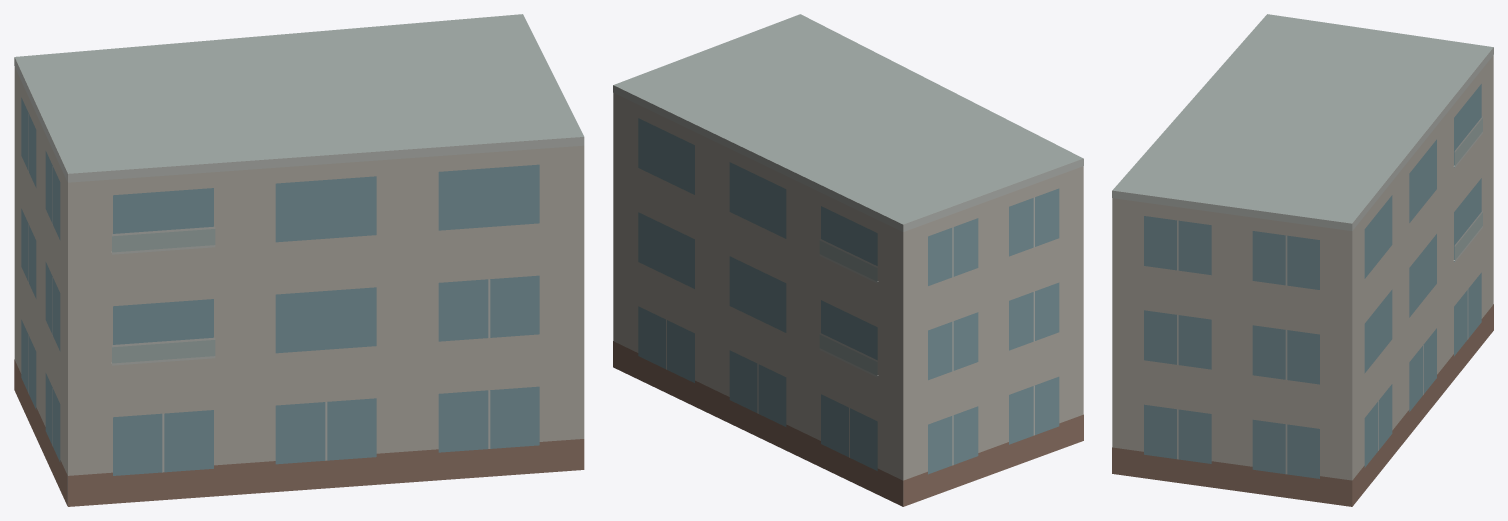
Rendered from survey-upis-32956642.glb.
3 views of the same model, side by side, from view 1: azimuth 30°, elevation 25°; view 2: azimuth 150°, elevation 25°; view 3: azimuth 270°, elevation 25° (orthographic). The views are drawn at different scales.
Parts seen in each view (by area): view 1: survey-upis-32956642.tmp; view 2: survey-upis-32956642.tmp; view 3: survey-upis-32956642.tmp.
Part boxes in pixels (x1=…): survey-upis-32956642.tmp: x1=14, y1=14, x2=584, y2=506; survey-upis-32956642.tmp: x1=613, y1=14, x2=1083, y2=506; survey-upis-32956642.tmp: x1=1112, y1=14, x2=1493, y2=506.
Bounding box in the file's own units: 14.53 × 9.15 × 11.18.
